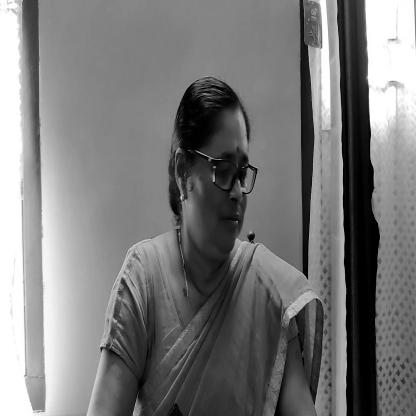Distracted: (174, 76, 254, 261)
